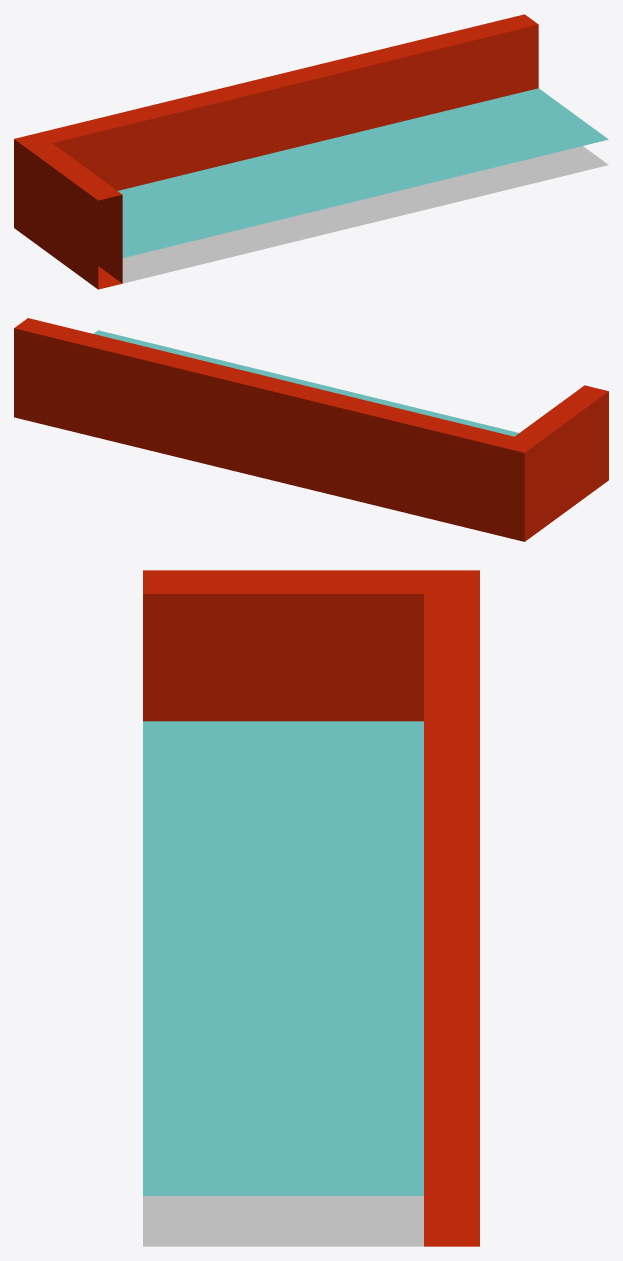
File: balcony.fbx
3 renders of one model, top to bottom at view 1: azimuth 30°, elevation 25°; view 2: azimuth 150°, elevation 25°; view 3: azimuth 270°, elevation 25°, orthographic. The views are drawn at different scales.
Visible parts, largest first — view 1: balcony_a, balcony_b; view 2: balcony_a, balcony_b; view 3: balcony_a, balcony_b.
Part boxes in pixels (box(x1,y1,x2,y2)): balcony_a: box(39, 14, 608, 283); balcony_b: box(14, 133, 122, 289); balcony_a: box(14, 318, 518, 535); balcony_b: box(500, 385, 608, 541); balcony_a: box(143, 594, 479, 1246); balcony_b: box(143, 570, 479, 721).
Bounding box in the file's own units: 4.2 × 0.7 × 1.2.
